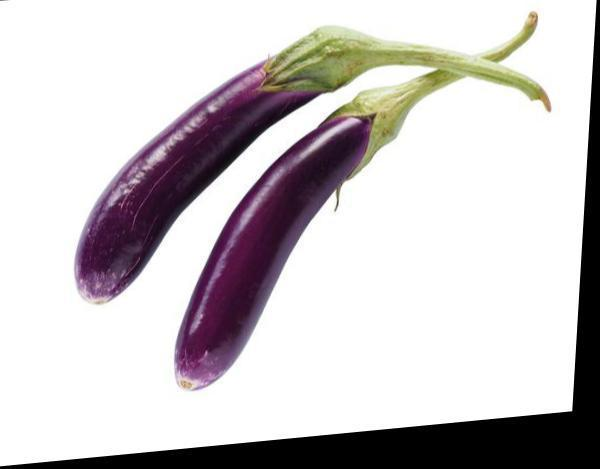eggplant: (79, 12, 476, 380)
